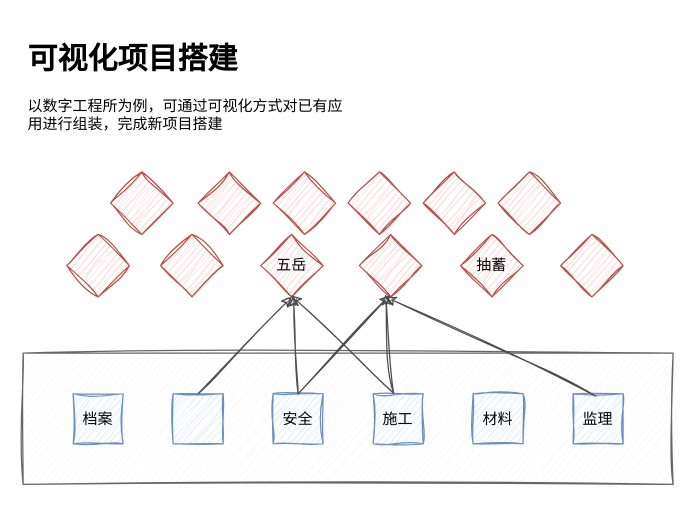
Image size: 695x506. Some labels were removed from this diagram. The centre of each missing label's shape, as x and y in pixels:
"五菱" belongs at (x=390, y=265).
"质量" belongs at (x=197, y=418).
